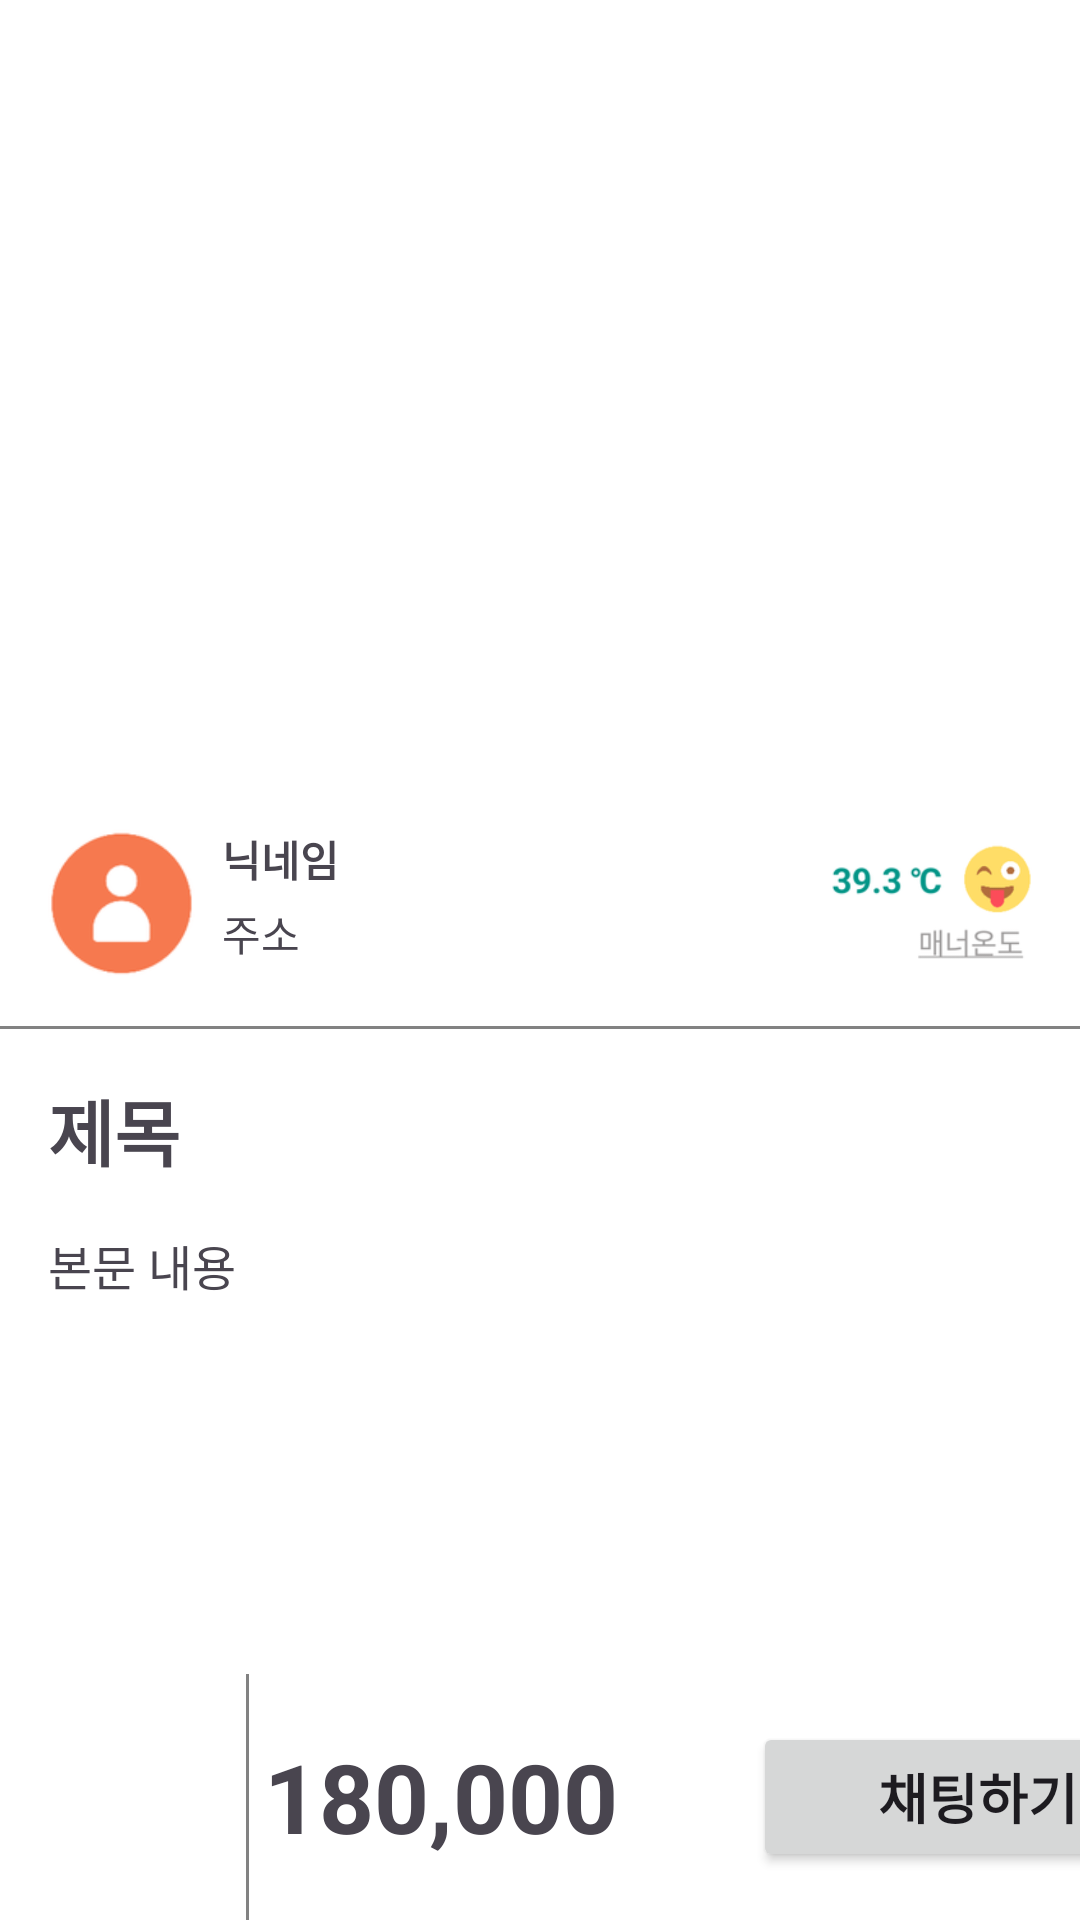

Icons on this 1080 x 1920 Android screen, each with the point to tap as (x,y):
usericon: (121,903)
